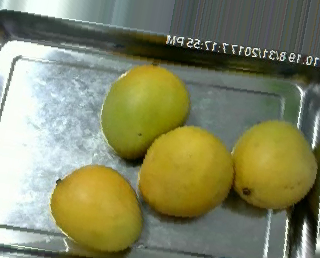Mango: (97, 61, 198, 157), (137, 124, 231, 221), (231, 119, 319, 210), (52, 164, 144, 251)
